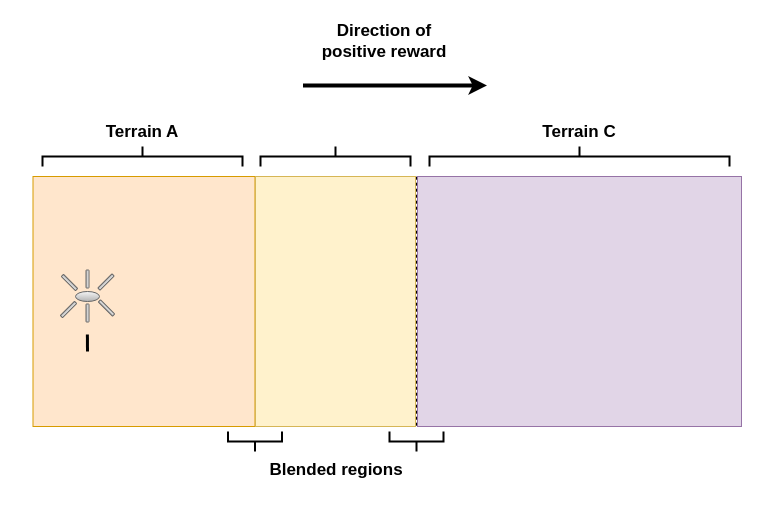
The diagram is 759 pixels wide and 511 high, and some of its shapes have lost their labels. Each missing label, with the centre of its shape:
Starting position: pixel 143 301
Terrain B: pixel 335 156
